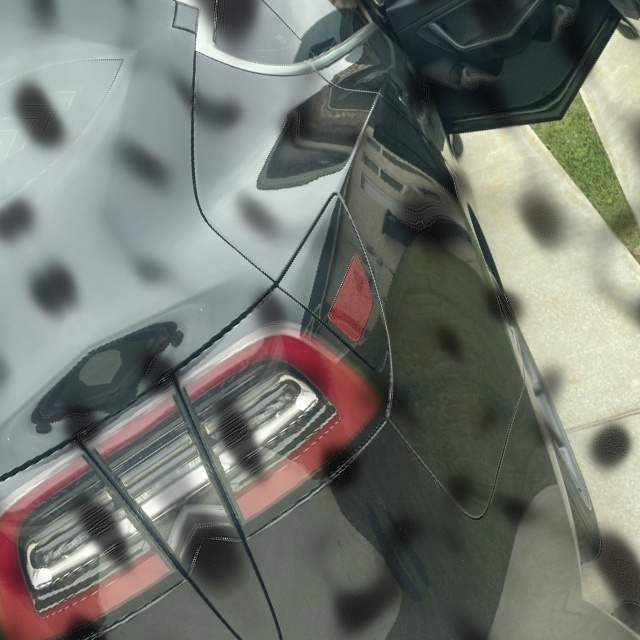reflector: (307, 248, 397, 349)
